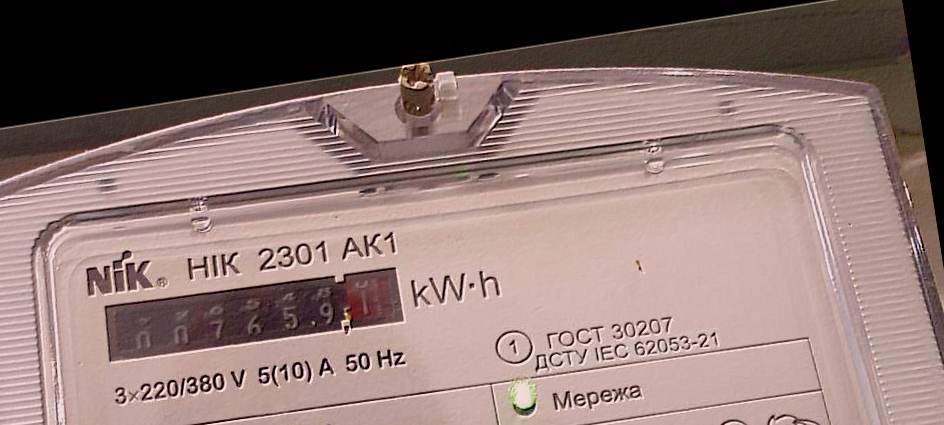0: (170, 321, 193, 349), (133, 326, 154, 355)
1: (356, 286, 375, 320)
5: (278, 302, 304, 332)
6: (243, 311, 265, 338)
7: (206, 316, 230, 344)
9: (316, 299, 337, 328)
screen: (90, 247, 418, 385)
